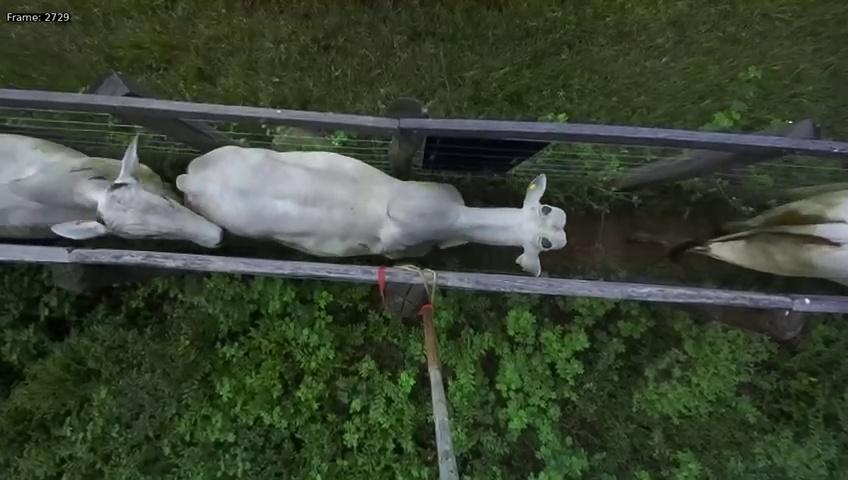cattle: (178, 118, 568, 277), (0, 103, 231, 268)
